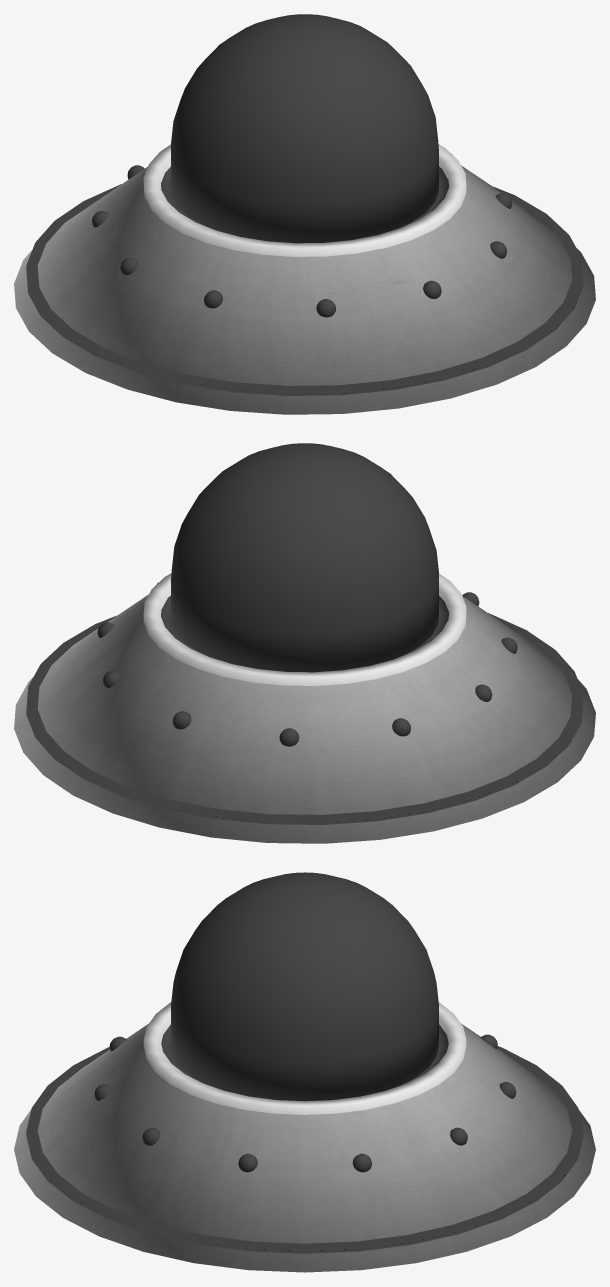
File: ship.glb
3 views of the same model, one above another, from view 1: azimuth 30°, elevation 25°; view 2: azimuth 150°, elevation 25°; view 3: azimuth 270°, elevation 25° (orthographic).
Visible parts, largest first — view 1: Cylinder, Sphere, Cylinder.001, Sphere.002; view 2: Cylinder, Sphere, Cylinder.001, Sphere.002; view 3: Cylinder, Sphere, Cylinder.001, Sphere.002.
Part boxes in pixels (x1=…): Cylinder: x1=14, y1=144, x2=595, y2=414; Sphere: x1=171, y1=14, x2=438, y2=243; Cylinder.001: x1=26, y1=184, x2=583, y2=395; Sphere.002: x1=92, y1=153, x2=512, y2=317; Cylinder: x1=14, y1=573, x2=595, y2=843; Sphere: x1=171, y1=443, x2=438, y2=672; Cylinder.001: x1=26, y1=613, x2=583, y2=824; Sphere.002: x1=97, y1=582, x2=517, y2=746; Cylinder: x1=14, y1=1002, x2=595, y2=1272; Sphere: x1=171, y1=872, x2=438, y2=1101; Cylinder.001: x1=26, y1=1046, x2=583, y2=1253; Sphere.002: x1=94, y1=1034, x2=516, y2=1172.
Size of the model in its own units: 7.68 by 4.04 by 7.68.
Materials: 6 (1 with a texture image).
